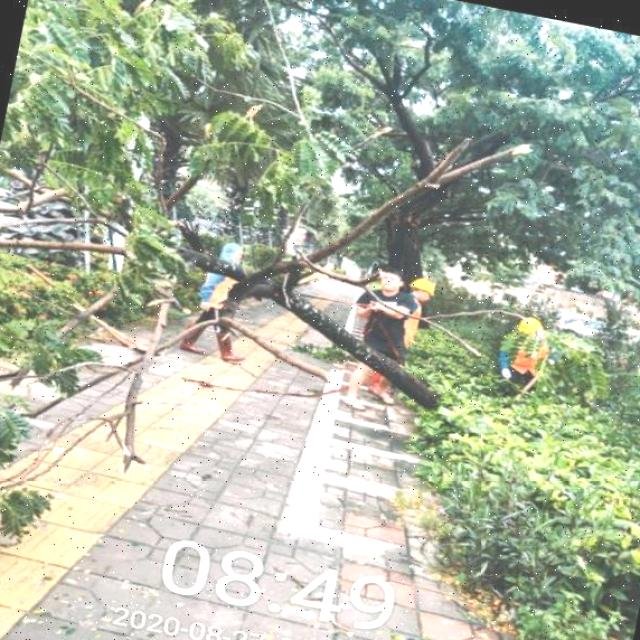fallen_object: (0, 0, 549, 546)
